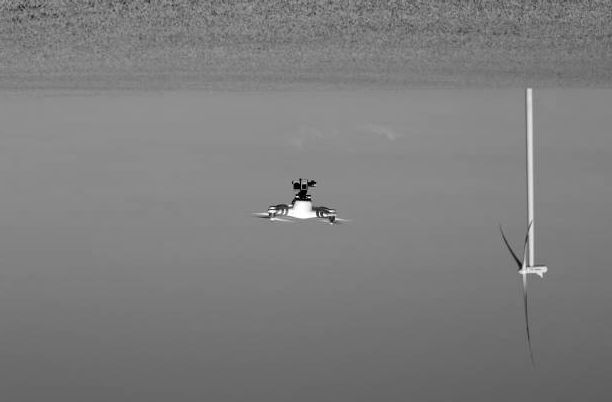Drone: (249, 173, 350, 230)
